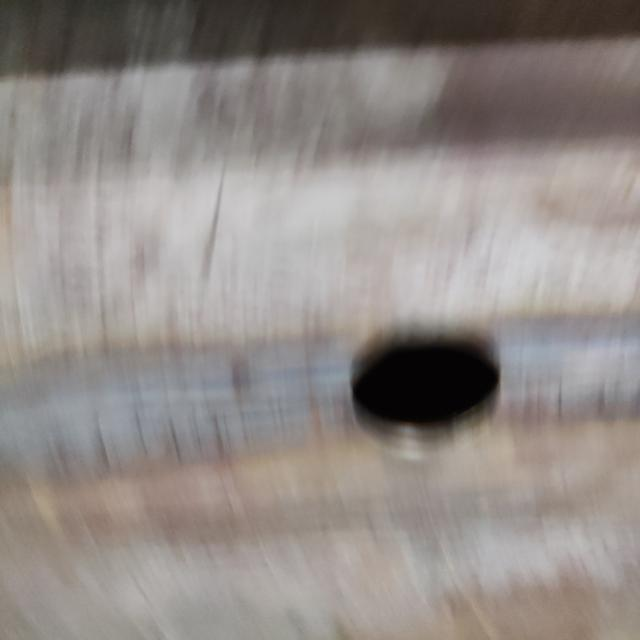seam: (0, 293, 640, 498)
